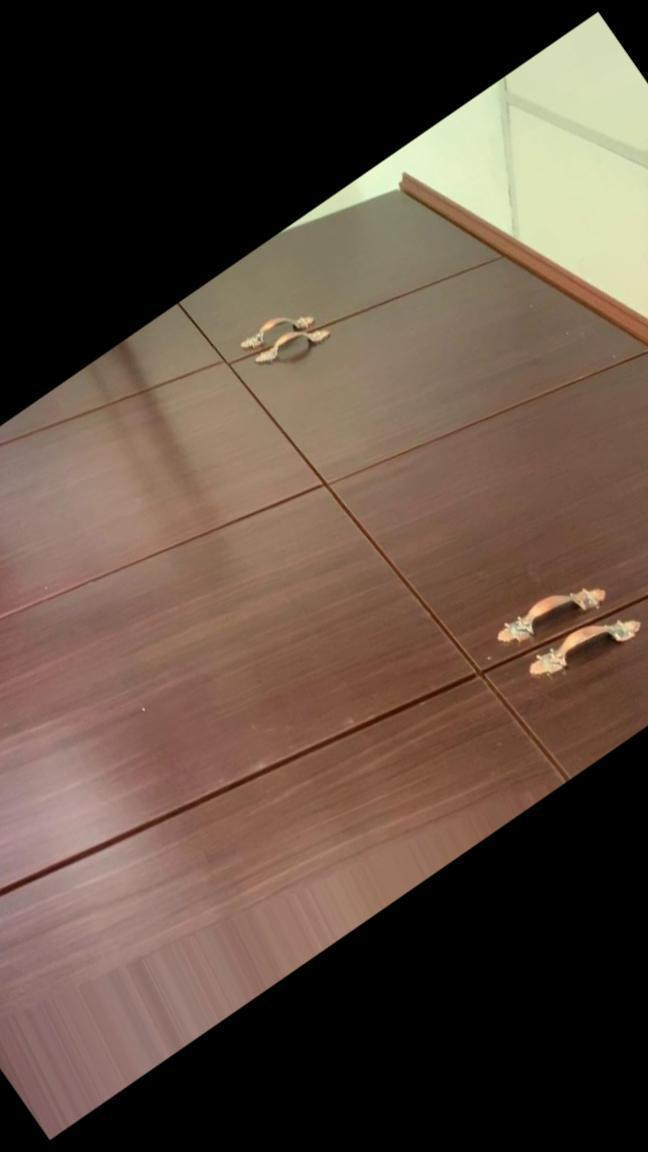Armario: (0, 43, 648, 1129)
